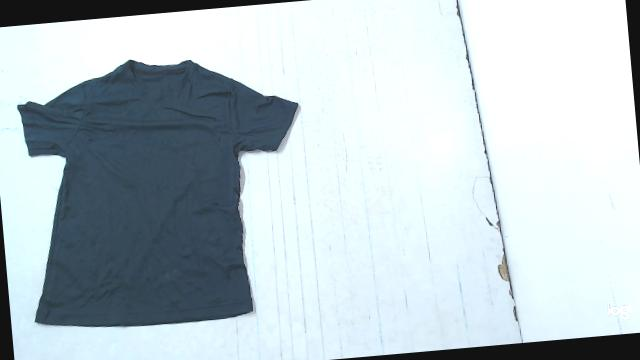new-garment: (17, 60, 298, 326)
